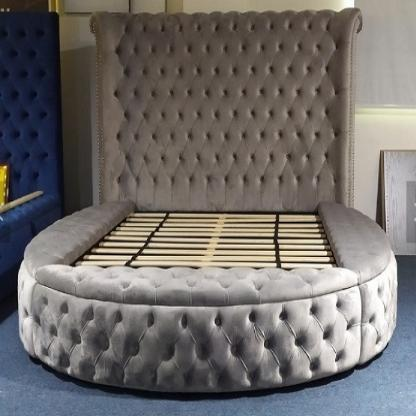Bed: (22, 10, 402, 396)
